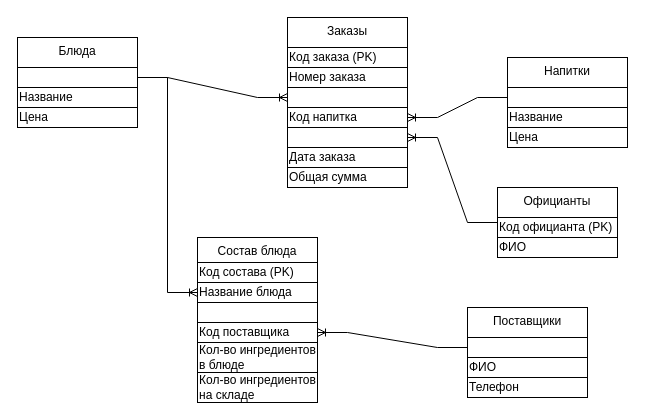
Image size: 645x420. Some labels were removed from this diagram. Each missing label, with the box of its shape:
Ингредиент: (196, 302, 318, 322)
Код блюда: (286, 86, 408, 108)
Код блюда (PK): (16, 66, 138, 88)
Код напитка (PK): (506, 86, 628, 108)
Код поставщика (PK): (466, 336, 588, 358)
ФИО официанта: (286, 126, 408, 148)
